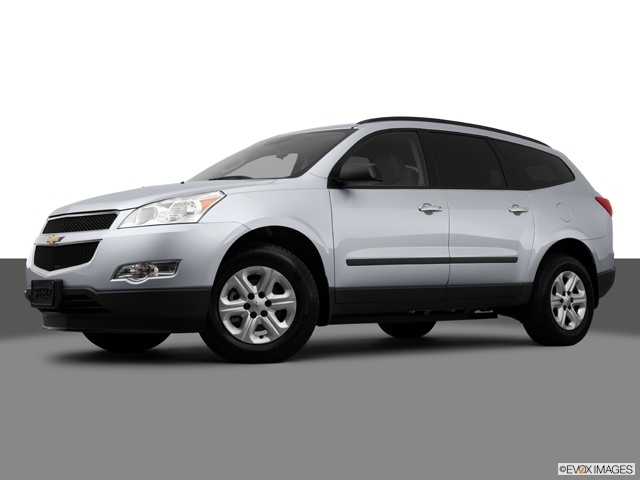Xe_hoi: (24, 115, 617, 366)
